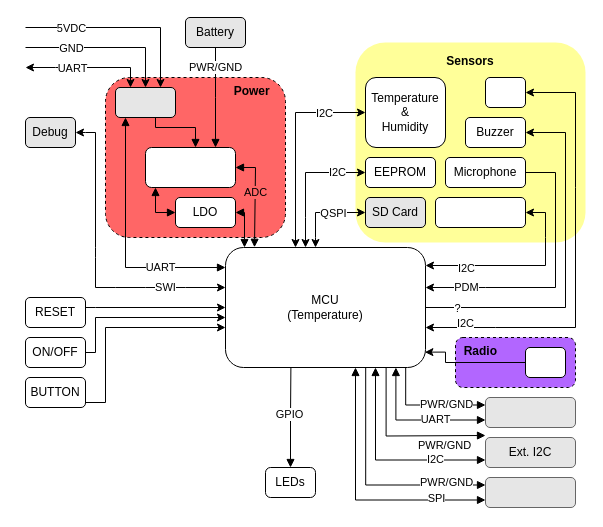
This 603x527 diagram has some shape labels left out. The centre of each missing label's shape, as x and y in pixels:
"BLE" goes at (x=545, y=362).
"Ext. SPI" goes at (x=530, y=492).
"Ext. UART" goes at (x=530, y=412).
"IMU" goes at (x=505, y=92).
"Light Sensor" goes at (x=480, y=212).
"Power Consumption" goes at (x=190, y=167).
"USB-C" goes at (x=145, y=102).
